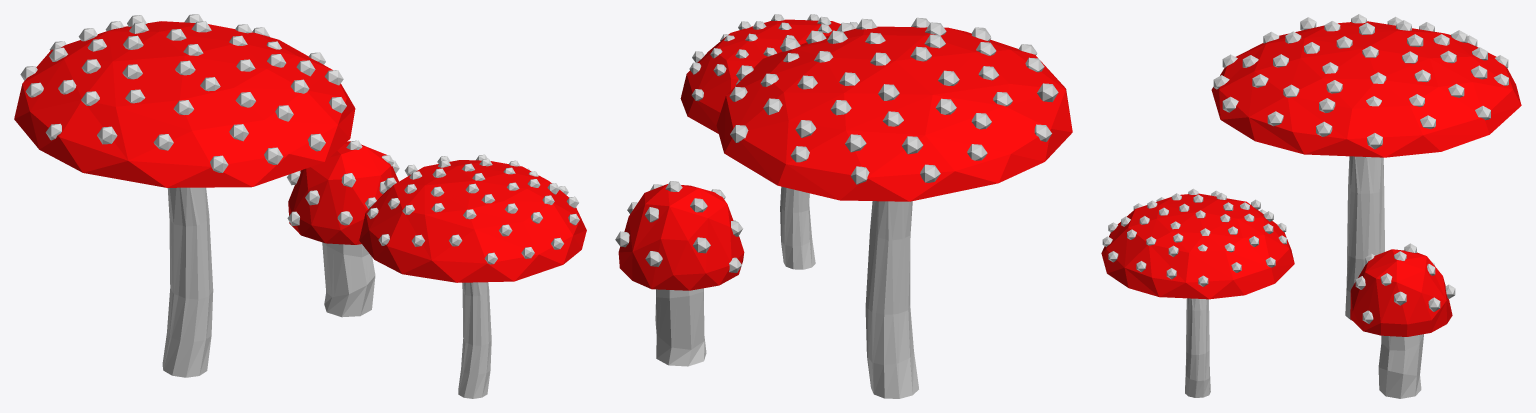
The model's file is Mushroom.glb.
3 renders of one model, left to right at view 1: azimuth 30°, elevation 25°; view 2: azimuth 150°, elevation 25°; view 3: azimuth 270°, elevation 25°, orthographic. The views are drawn at different scales.
Parts seen in each view (by area): view 1: Velká muchomůrka-Muchomůrka, Velká muchomůrka.1-Muchomůrka, Velká muchomůrka-Liška 2, Velká muchomůrka.1-Liška 2, Malá muchomůrka-Muchomůrka, Malá muchomůrka-Liška 2; view 2: Velká muchomůrka-Muchomůrka, Velká muchomůrka-Liška 2, Malá muchomůrka-Muchomůrka, Malá muchomůrka-Liška 2, Velká muchomůrka.1-Muchomůrka, Velká muchomůrka.1-Liška 2; view 3: Velká muchomůrka-Muchomůrka, Velká muchomůrka.1-Muchomůrka, Velká muchomůrka-Liška 2, Malá muchomůrka-Muchomůrka, Velká muchomůrka.1-Liška 2, Malá muchomůrka-Liška 2.
Part boxes in pixels (x1,y1,x2,y2): Velká muchomůrka-Muchomůrka: (14,21,355,187); Velká muchomůrka.1-Muchomůrka: (359,160,586,282); Velká muchomůrka-Liška 2: (20,14,346,377); Velká muchomůrka.1-Liška 2: (365,154,579,398); Malá muchomůrka-Muchomůrka: (288,141,398,244); Malá muchomůrka-Liška 2: (287,140,399,317); Velká muchomůrka-Muchomůrka: (716,26,1072,201); Velká muchomůrka-Liška 2: (729,17,1058,398); Malá muchomůrka-Muchomůrka: (618,184,744,290); Malá muchomůrka-Liška 2: (615,181,742,366); Velká muchomůrka.1-Muchomůrka: (680,19,840,133); Velká muchomůrka.1-Liška 2: (689,14,858,269); Velká muchomůrka-Muchomůrka: (1211,21,1521,157); Velká muchomůrka.1-Muchomůrka: (1101,193,1294,299); Velká muchomůrka-Liška 2: (1213,14,1508,320); Malá muchomůrka-Muchomůrka: (1350,249,1452,336); Velká muchomůrka.1-Liška 2: (1102,188,1286,397); Malá muchomůrka-Liška 2: (1355,243,1455,398).
Bounding box in the file's own units: 0.1855 × 0.1303 × 0.1828.
